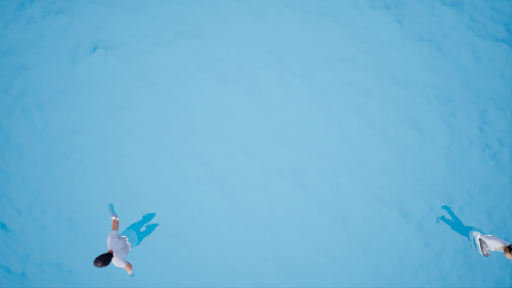person: (420, 201, 512, 270), (88, 202, 162, 270)
